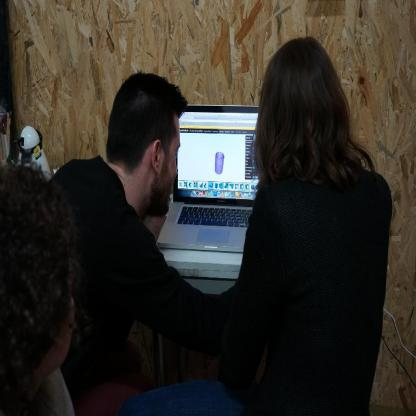board: (157, 105, 260, 249)
